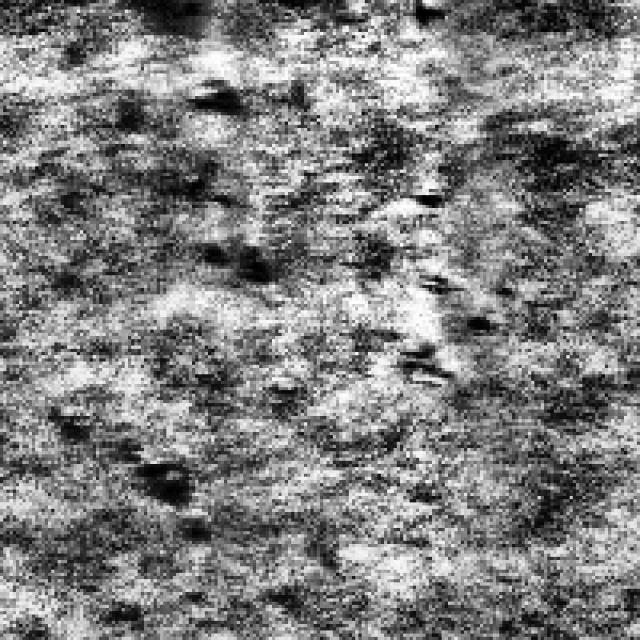Crazing: (362, 188, 499, 378), (163, 61, 272, 288), (58, 410, 218, 550)
